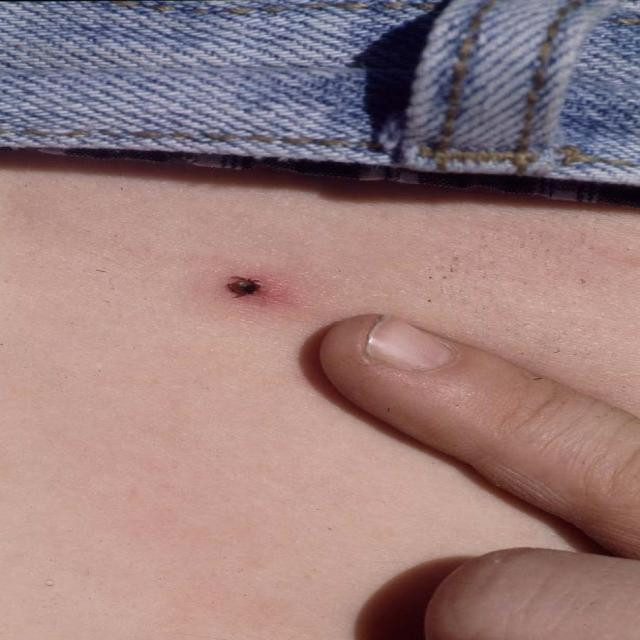kene: (211, 262, 307, 319)
